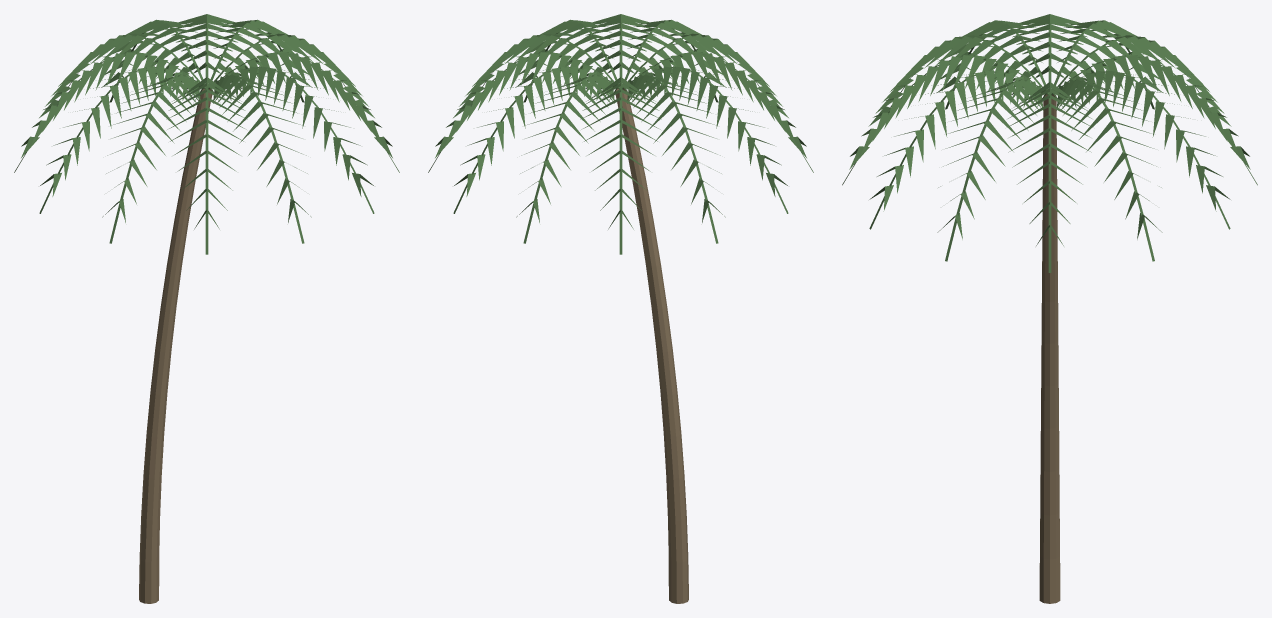
The model's file is california-palm.glb.
3 views of the same model, side by side, from view 1: azimuth 30°, elevation 25°; view 2: azimuth 150°, elevation 25°; view 3: azimuth 270°, elevation 25° (orthographic). The views are drawn at different scales.
Parts seen in each view (by area): view 1: Palm trunk, Palm frond.008; view 2: Palm trunk, Palm frond.004; view 3: Palm trunk, Palm frond.
Part boxes in pixels (left/top/right/bottom): Palm trunk: left=139, top=88, right=212, bottom=603; Palm frond.008: left=205, top=80, right=208, bottom=254; Palm trunk: left=615, top=88, right=688, bottom=603; Palm frond.004: left=619, top=80, right=622, bottom=254; Palm trunk: left=1039, top=94, right=1060, bottom=603; Palm frond: left=1048, top=86, right=1051, bottom=272.
Bounding box in the file's own units: 7.2 × 10.99 × 7.2.
